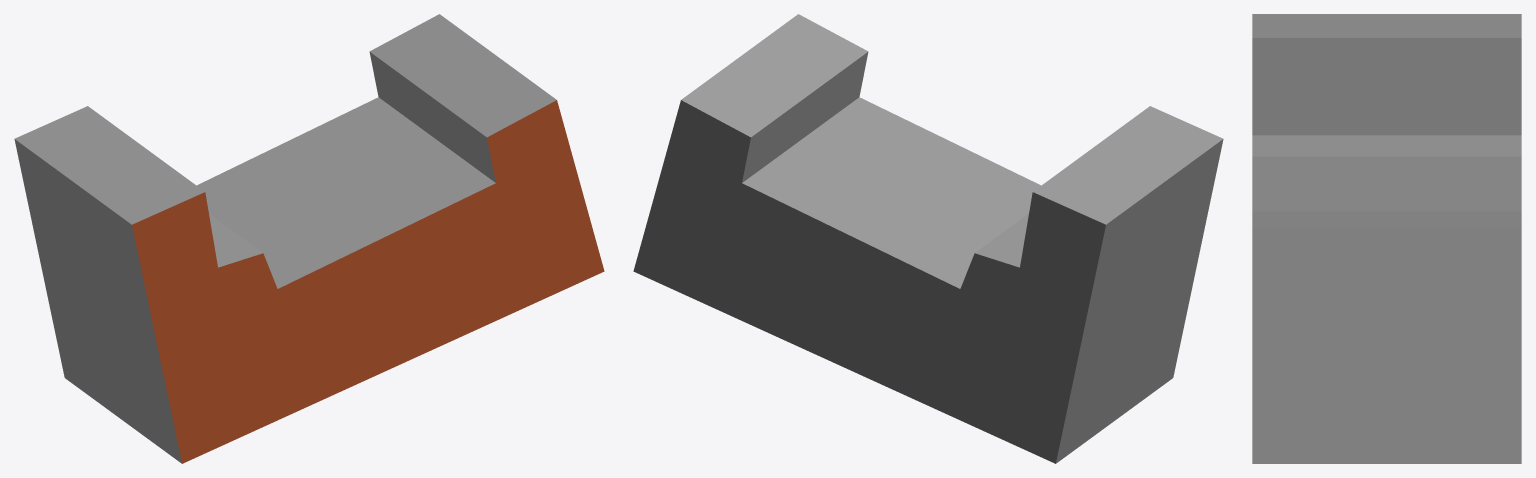
Rendered from construction_2146_assumed_A_Casa_h6m.obj.
3 renders of one model, left to right at view 1: azimuth 30°, elevation 25°; view 2: azimuth 150°, elevation 25°; view 3: azimuth 270°, elevation 25°, orthographic. The views are drawn at different scales.
Visible parts, largest first — view 1: construction_2146_assumed_A_Casa; view 2: construction_2146_assumed_A_Casa; view 3: construction_2146_assumed_A_Casa.
Part boxes in pixels (x1,y1,x2,y2): construction_2146_assumed_A_Casa: [14, 14, 604, 463]; construction_2146_assumed_A_Casa: [633, 14, 1223, 463]; construction_2146_assumed_A_Casa: [1252, 14, 1521, 463].
Size of the model in its own units: 13.94 by 7.68 by 6.
